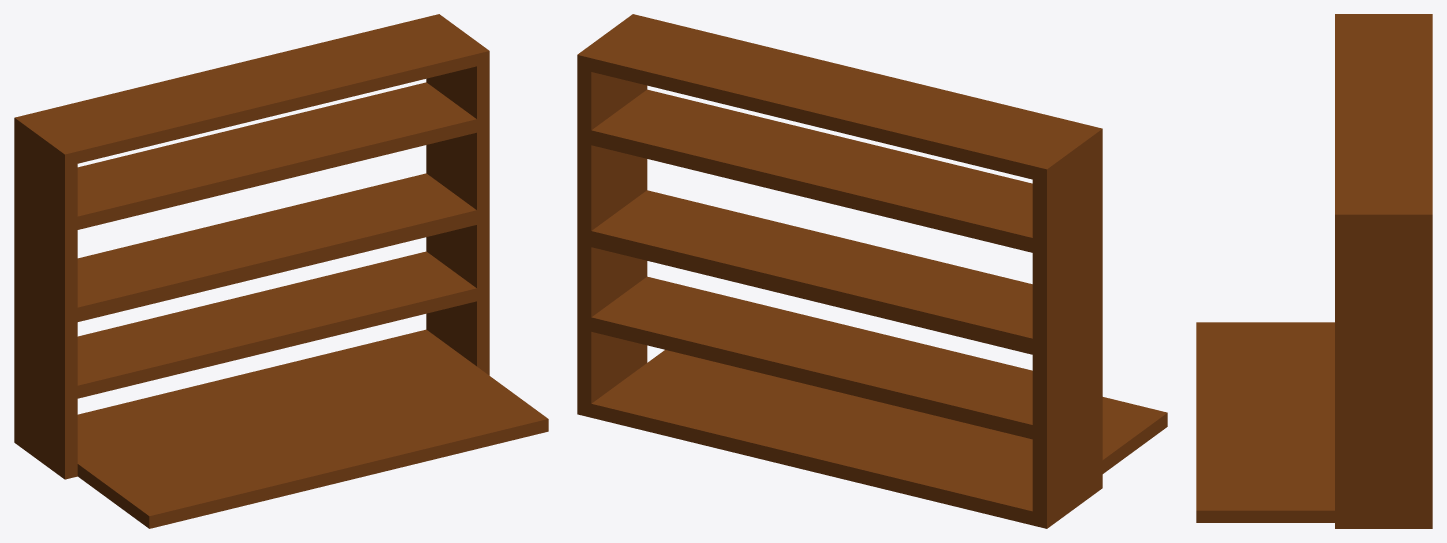
The model's file is Prop_Biblioteca_Stand.fbx.
3 views of the same model, side by side, from view 1: azimuth 30°, elevation 25°; view 2: azimuth 150°, elevation 25°; view 3: azimuth 270°, elevation 25° (orthographic). The views are drawn at different scales.
Parts seen in each view (by area): view 1: Stand; view 2: Stand; view 3: Stand.
Boxes of the visible parts, x1,y1,x2,y2 form: Stand: [14, 14, 548, 528]; Stand: [577, 14, 1167, 528]; Stand: [1196, 14, 1432, 528].
Bounding box in the file's own units: 3400 × 2487 × 1692.
